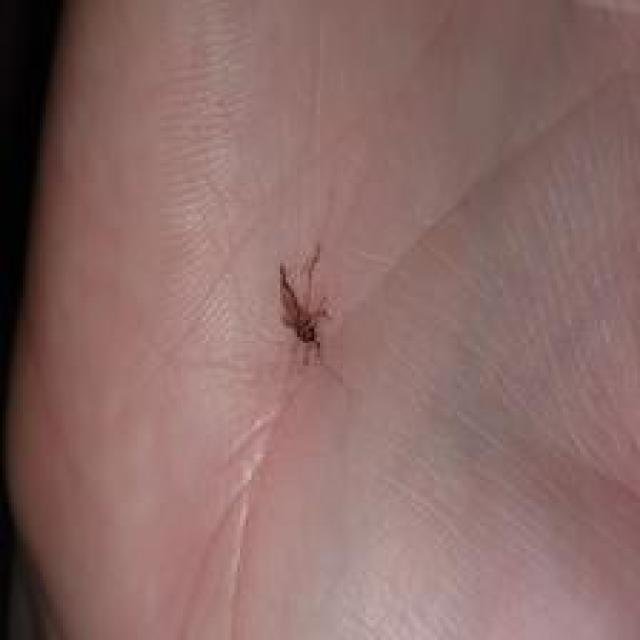Culex: (276, 242, 333, 367)
